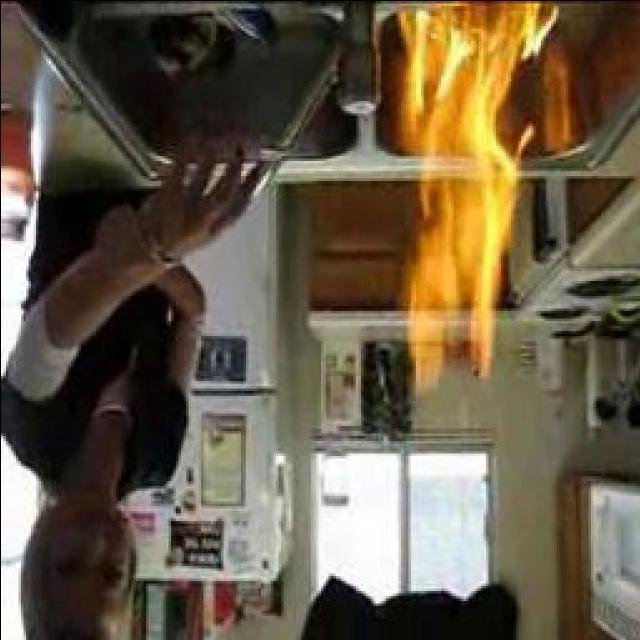Fire: (396, 0, 529, 390)
